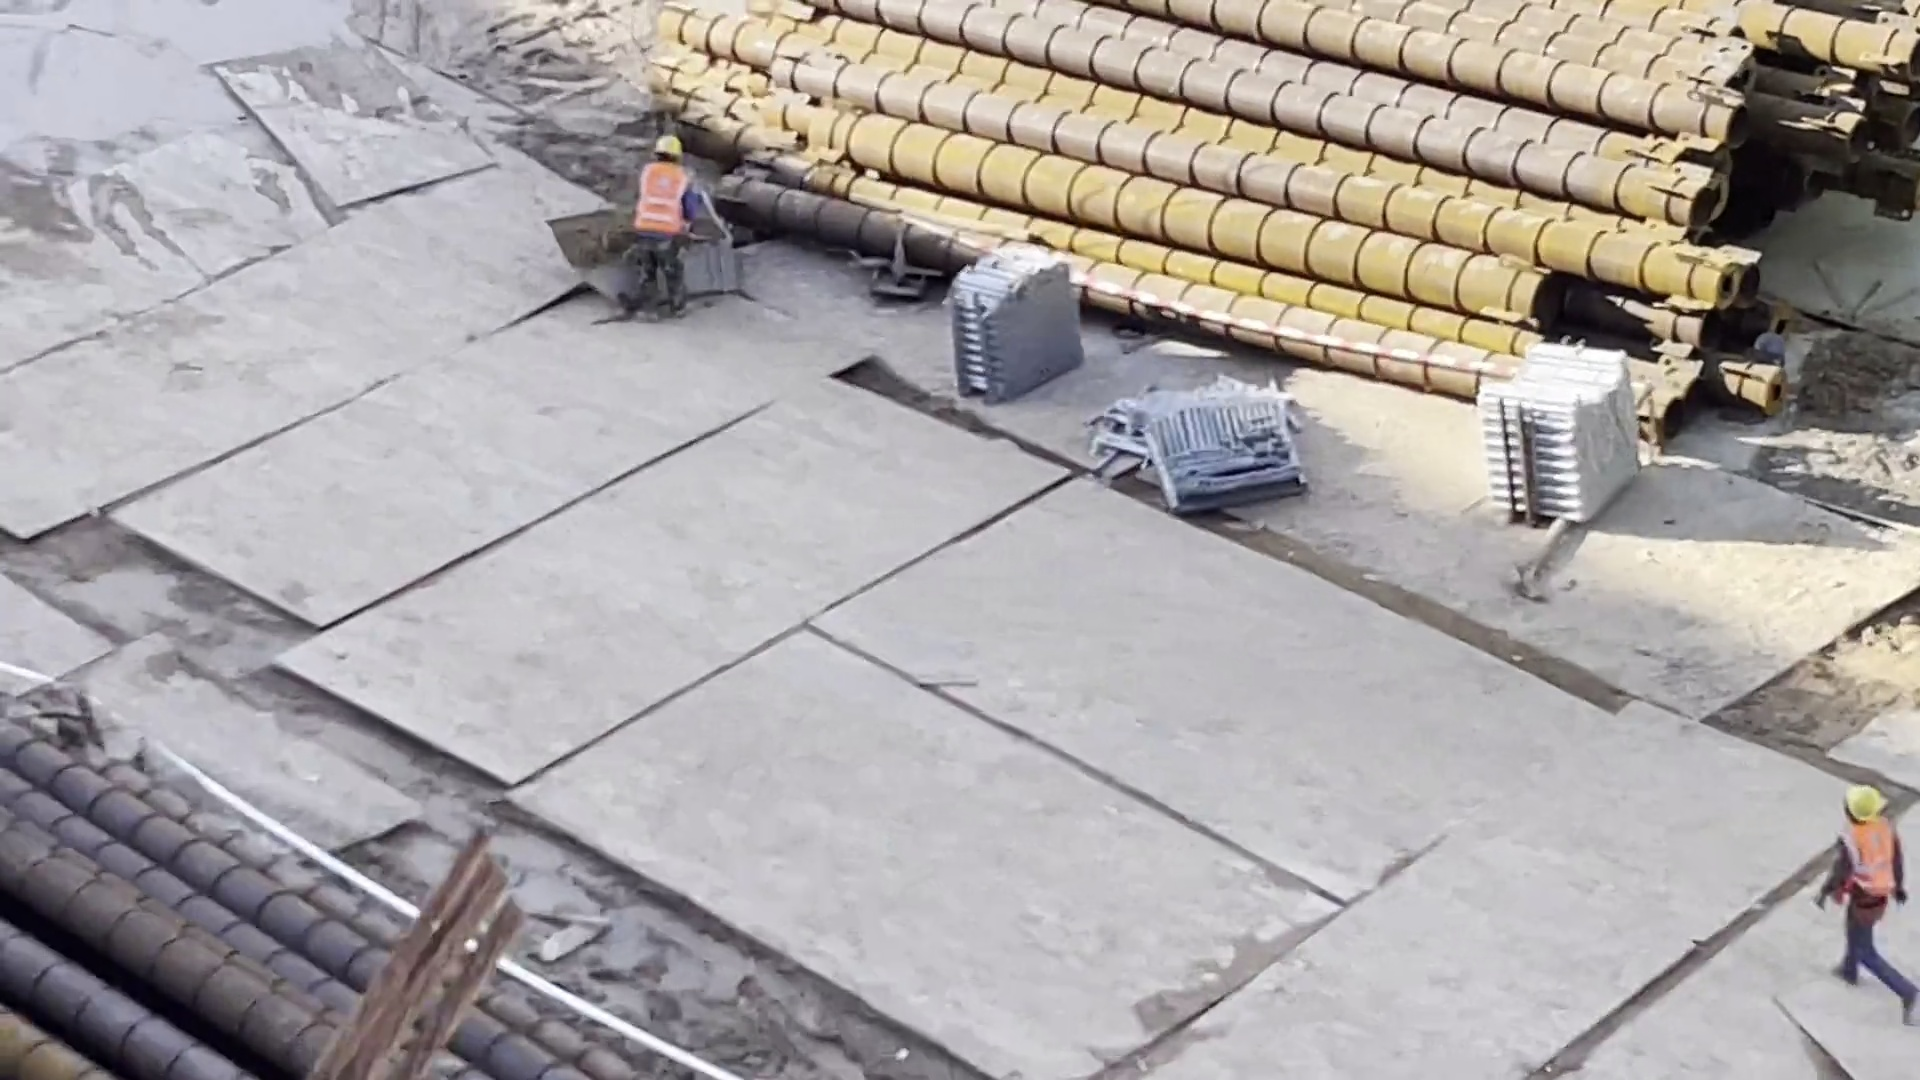helmet: (1841, 779, 1885, 827), (643, 127, 693, 164)
person: (1807, 757, 1920, 1033), (619, 124, 707, 324)
scaffold: (1467, 325, 1667, 547), (936, 234, 1094, 417)
vest: (630, 153, 696, 246), (1838, 824, 1904, 913)
